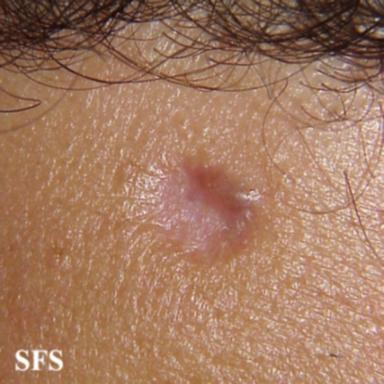basal-cell-carcinoma: (161, 153, 263, 266)
